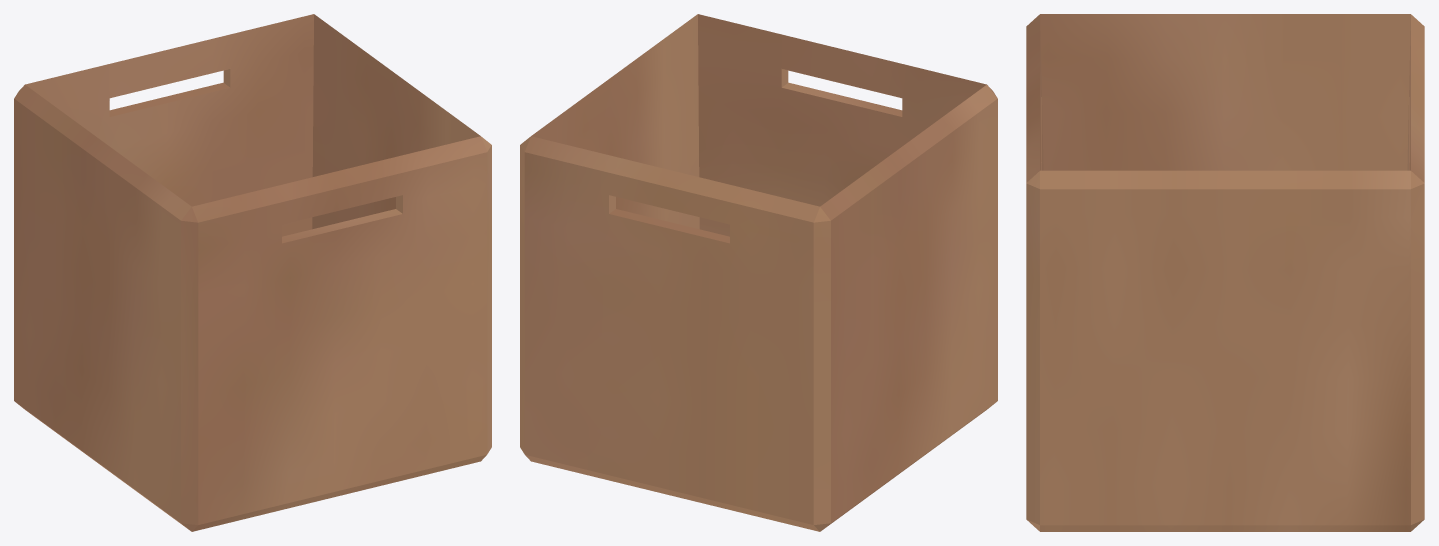
Rendered from cajaprueba.glb.
3 renders of one model, left to right at view 1: azimuth 30°, elevation 25°; view 2: azimuth 150°, elevation 25°; view 3: azimuth 270°, elevation 25°, orthographic. The views are drawn at different scales.
Visible parts, largest first — view 1: caja_archivos; view 2: caja_archivos; view 3: caja_archivos.
Boxes of the visible parts, left/top/right/bottom form: caja_archivos: left=14, top=14, right=491, bottom=531; caja_archivos: left=520, top=14, right=997, bottom=531; caja_archivos: left=1026, top=14, right=1424, bottom=531.
Bounding box in the file's own units: 4.03 × 4.03 × 4.03.
3 materials, 1 textured.
